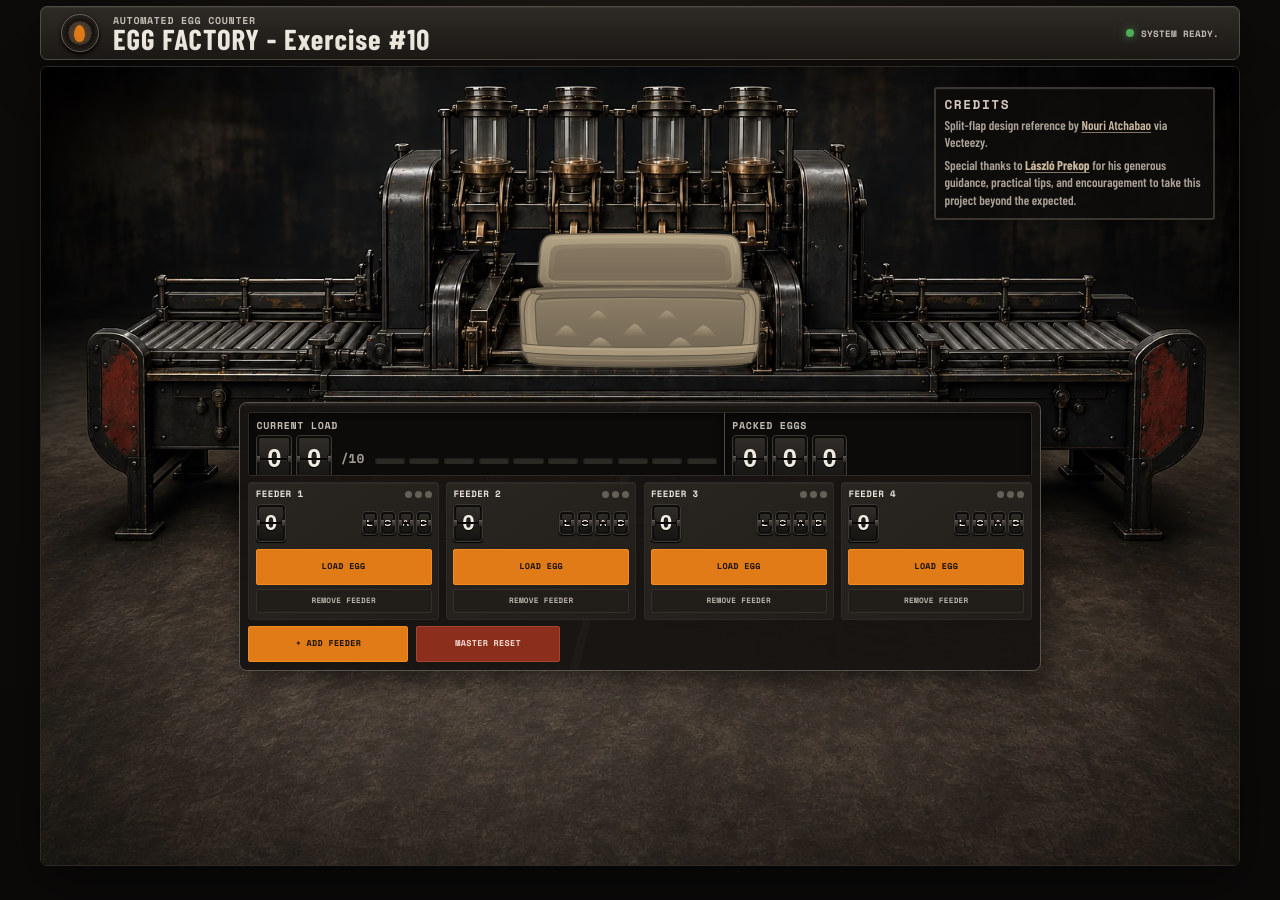
Test: Egg Factory › explains maximum capacity for three, two, and one remaining feeder
Click the button with aria-label "Remove feeder 4" at (936,601), box [848,589,1024,613]
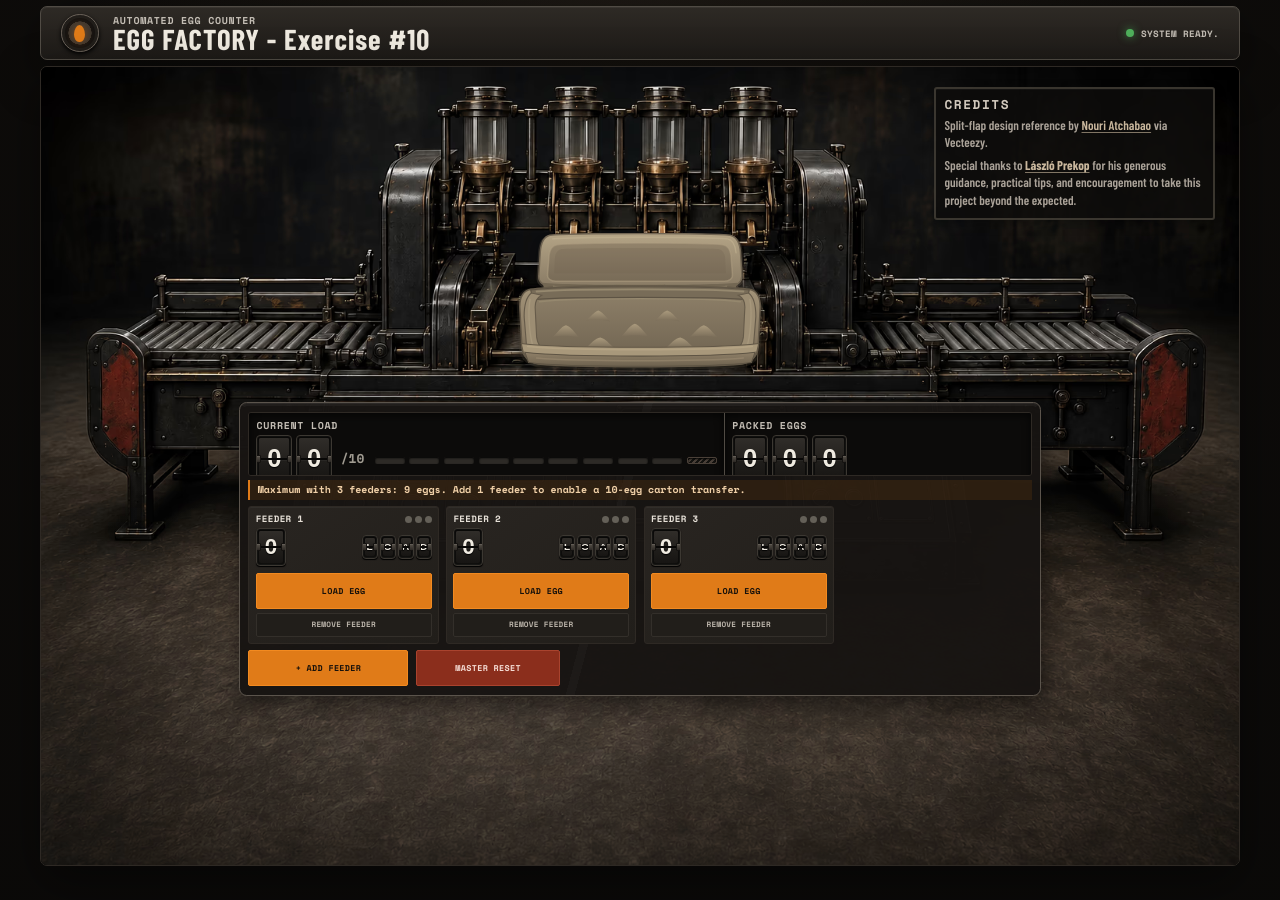
Result: the text "Maximum with 3 feeders: 9 eggs. Add 1 feeder to enable a 10-egg carton transfer." is shown at [248,480,1032,500]
Click the button with aria-label "Remove feeder 3" at (739,625), box [651,613,827,637]
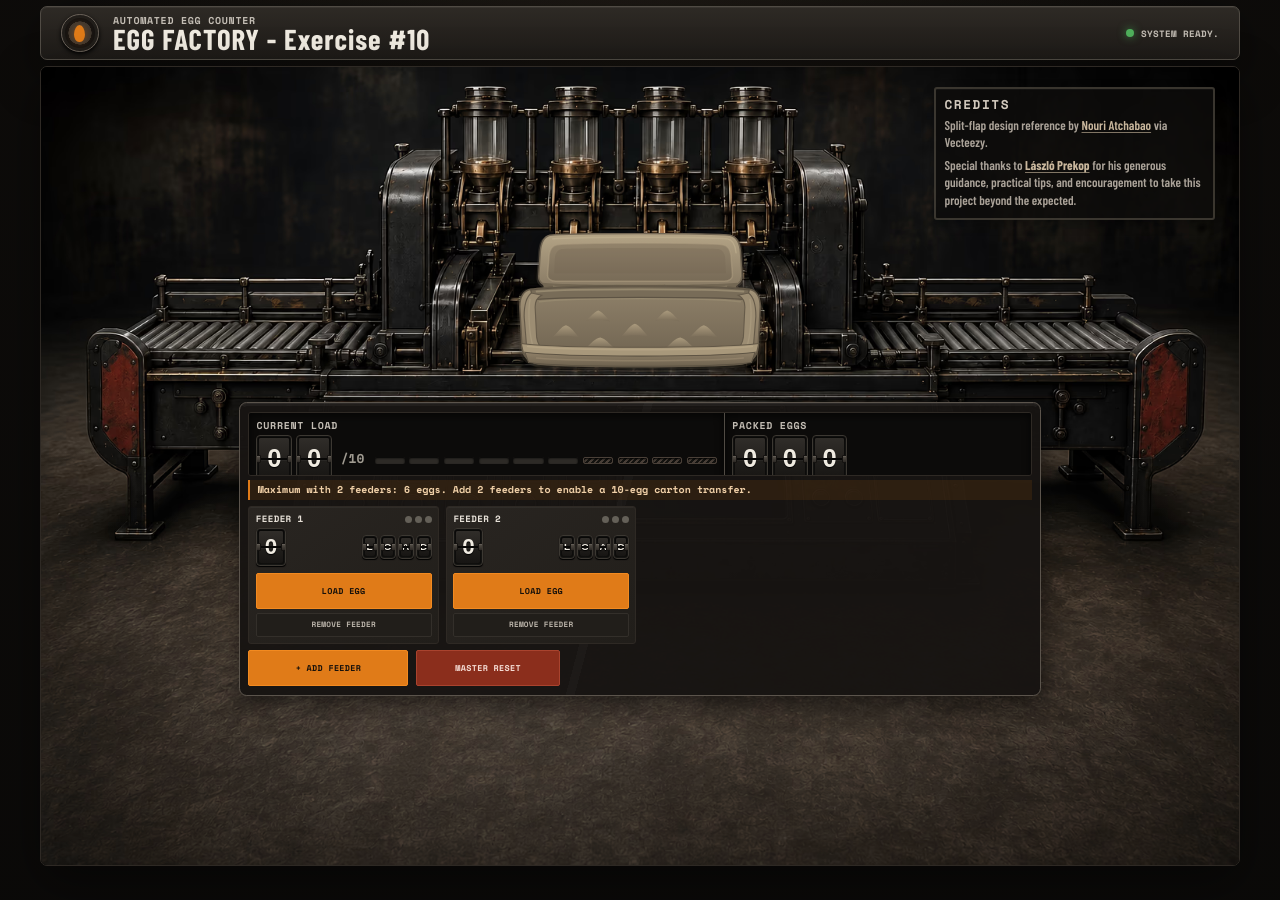
Result: the text "Maximum with 2 feeders: 6 eggs. Add 2 feeders to enable a 10-egg carton transfer." is shown at [258,482,752,497]
Click the button with aria-label "Remove feeder 2" at (541,625), box [453,613,629,637]
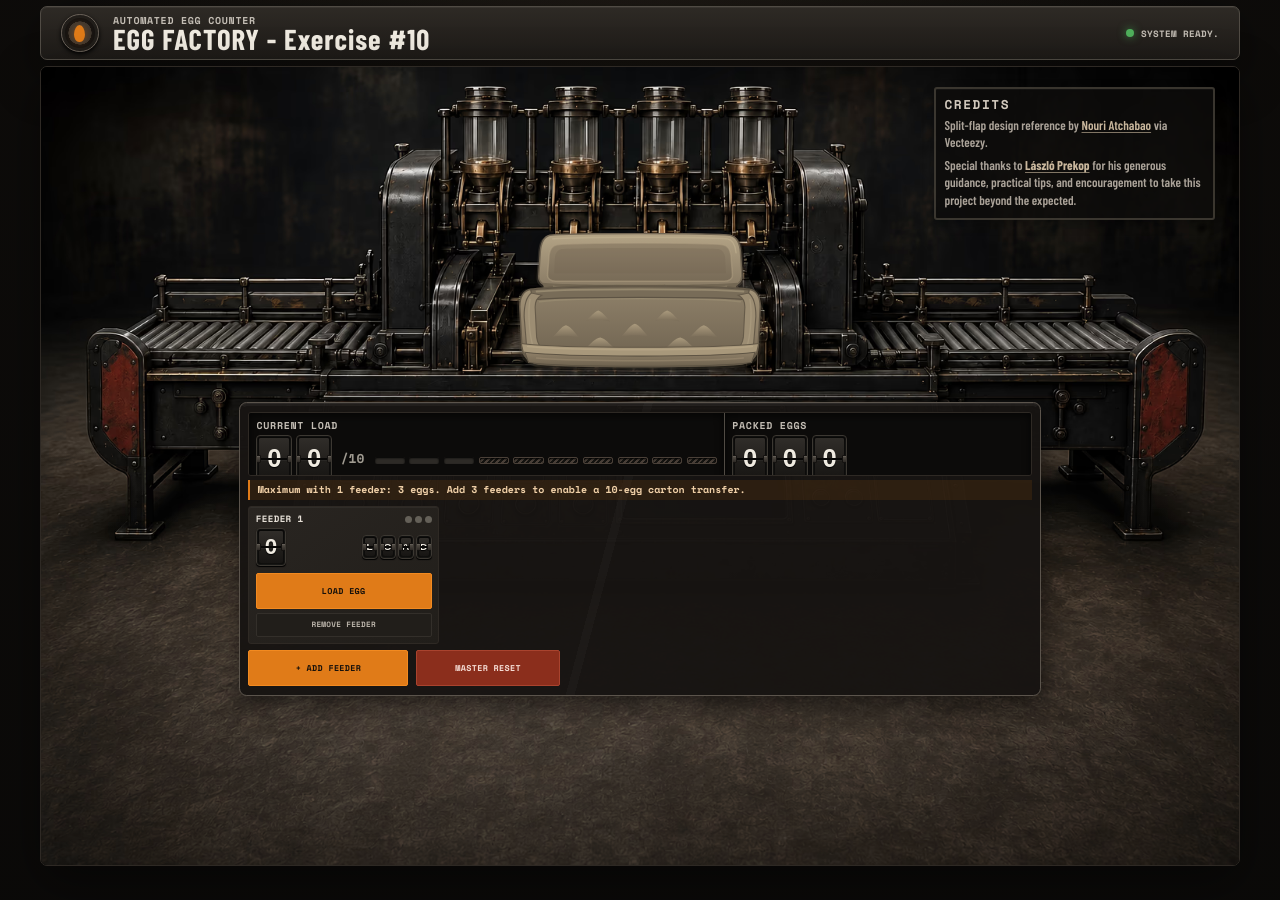
Result: the text "Maximum with 1 feeder: 3 eggs. Add 3 feeders to enable a 10-egg carton transfer." is shown at [248,480,1032,500]
